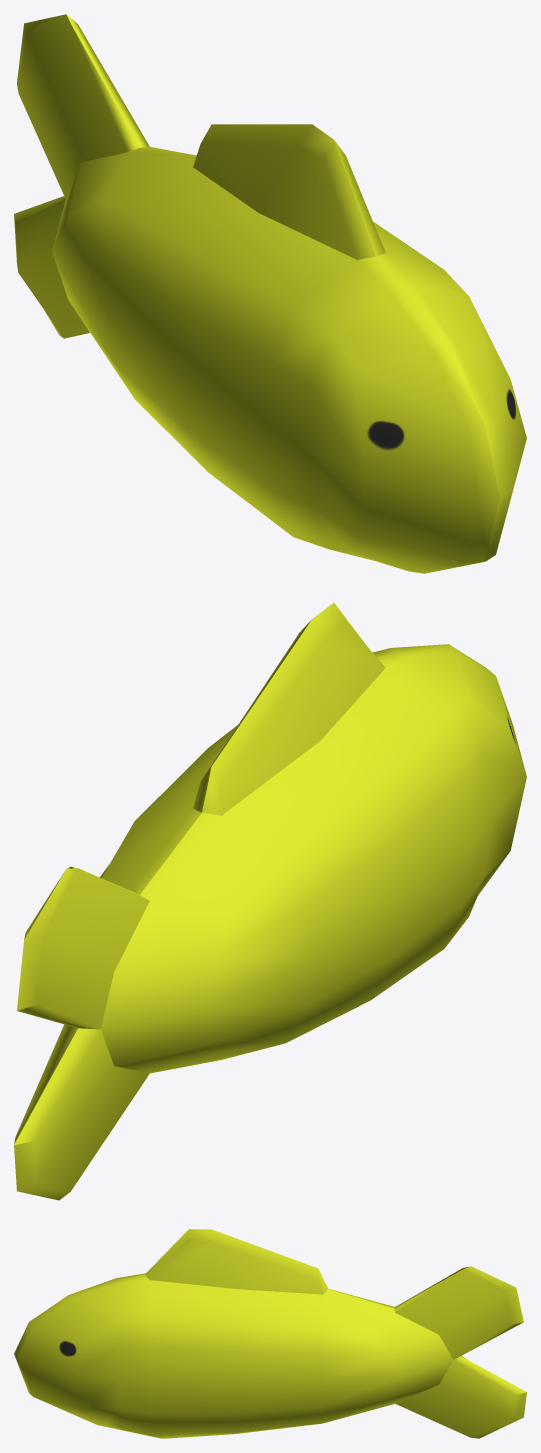
File: smallfish.fbx
The picture shows the model from 3 angles, top to bottom: view 1: azimuth 30°, elevation 25°; view 2: azimuth 150°, elevation 25°; view 3: azimuth 270°, elevation 25°; orthographic projection. The views are drawn at different scales.
Parts seen in each view (by area): view 1: pCube1; view 2: pCube1; view 3: pCube1.
Part boxes in pixels (x1=…): pCube1: x1=14, y1=14, x2=526, y2=573; pCube1: x1=14, y1=603, x2=526, y2=1200; pCube1: x1=14, y1=1229, x2=526, y2=1438.
Bounding box in the file's own units: 2.66 × 4.56 × 10.11.
